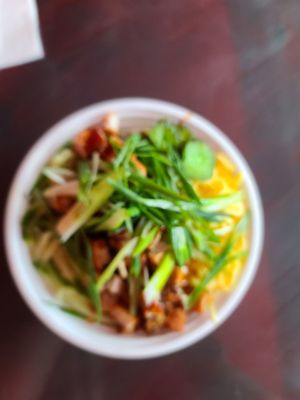sushi: (4, 94, 264, 362)
